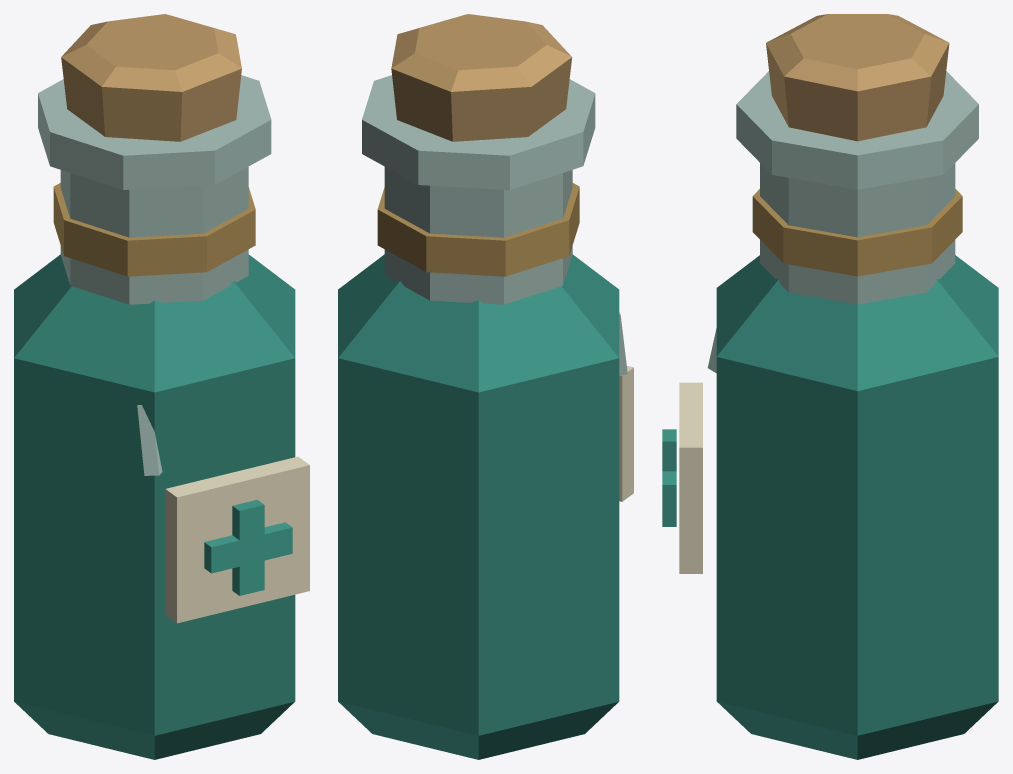
Rendered from item_potion_antidote.glb.
The picture shows the model from 3 angles, left to right: view 1: azimuth 30°, elevation 25°; view 2: azimuth 150°, elevation 25°; view 3: azimuth 270°, elevation 25°; orthographic projection.
Visible parts, largest first — view 1: item_potion_antidote; view 2: item_potion_antidote; view 3: item_potion_antidote.
Boxes of the visible parts, box(x1,y1,x2,y2) form: item_potion_antidote: box(14, 14, 309, 759); item_potion_antidote: box(338, 14, 633, 759); item_potion_antidote: box(662, 14, 998, 759).
Size of the model in its own units: 0.18 by 0.407 by 0.1859.
